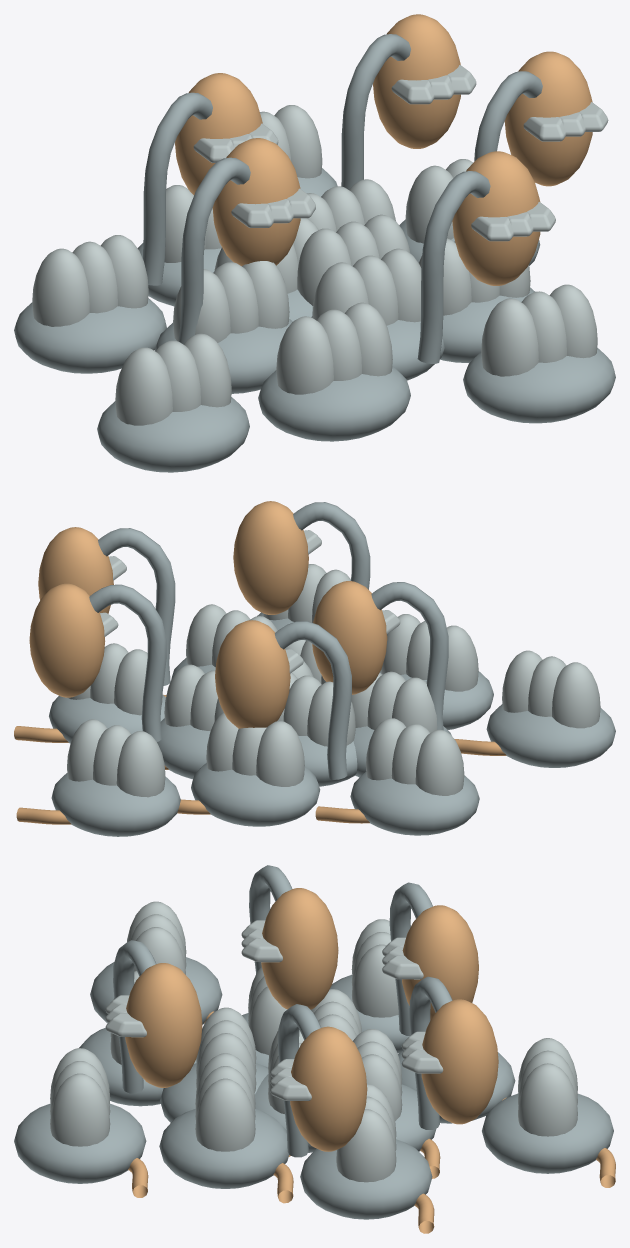
The model's file is bio_acid_mat_18_near.glb.
3 renders of one model, top to bottom at view 1: azimuth 30°, elevation 25°; view 2: azimuth 150°, elevation 25°; view 3: azimuth 270°, elevation 25°, orthographic. The views are drawn at different scales.
Visible parts, largest first — view 1: Reaction vesicle.027, Reaction vesicle.030, Reaction vesicle.021, Reaction vesicle.036, Microbial cushion.012, Microbial cushion.007, Microbial cushion.010, Microbial cushion.009, Pendant spore capsule.003, Pendant spore capsule.002, Pendant spore capsule, Pendant spore capsule.004 (+25 smaller); view 2: Pendant spore capsule.003, Pendant spore capsule.002, Pendant spore capsule.001, Reaction vesicle.033, Reaction vesicle.036, Reaction vesicle.027, Microbial cushion.006, Microbial cushion.009, Microbial cushion.012, Microbial cushion.011, Pendant spore capsule.004, Reaction vesicle.018 (+23 smaller); view 3: Pendant spore capsule.003, Pendant spore capsule, Pendant spore capsule.002, Pendant spore capsule.004, Microbial cushion.010, Microbial cushion.011, Microbial cushion.005, Microbial cushion.008, Pendant spore capsule.001, Reaction vesicle.015, Reaction vesicle.030, Reaction vesicle.033 (+29 smaller).
Part boxes in pixels (x1=…): Reaction vesicle.027: x1=32, y1=235, x2=148, y2=326; Reaction vesicle.030: x1=481, y1=284, x2=597, y2=376; Reaction vesicle.021: x1=276, y1=302, x2=392, y2=394; Reaction vesicle.036: x1=115, y1=333, x2=231, y2=425; Microbial cushion.012: x1=97, y1=397, x2=249, y2=472; Microbial cushion.007: x1=258, y1=366, x2=410, y2=441; Microbial cushion.010: x1=463, y1=348, x2=615, y2=423; Microbial cushion.009: x1=14, y1=298, x2=166, y2=373; Pendant spore capsule.003: x1=373, y1=14, x2=460, y2=148; Pendant spore capsule.002: x1=452, y1=151, x2=540, y2=285; Pendant spore capsule: x1=504, y1=51, x2=592, y2=186; Pendant spore capsule.004: x1=212, y1=138, x2=300, y2=266; Pendant spore capsule.003: x1=29, y1=583, x2=105, y2=697; Pendant spore capsule.002: x1=233, y1=501, x2=308, y2=614; Pendant spore capsule.001: x1=215, y1=620, x2=290, y2=728; Reaction vesicle.033: x1=67, y1=719, x2=165, y2=797; Reaction vesicle.036: x1=502, y1=650, x2=600, y2=728; Reaction vesicle.027: x1=365, y1=718, x2=464, y2=795; Microbial cushion.006: x1=191, y1=763, x2=320, y2=826; Microbial cushion.009: x1=350, y1=772, x2=479, y2=835; Microbial cushion.012: x1=486, y1=704, x2=615, y2=767; Microbial cushion.011: x1=51, y1=773, x2=180, y2=836; Pendant spore capsule.004: x1=312, y1=581, x2=387, y2=694; Reaction vesicle.018: x1=206, y1=712, x2=304, y2=786; Pendant spore capsule.003: x1=421, y1=999, x2=498, y2=1124; Pendant spore capsule: x1=290, y1=1026, x2=367, y2=1151; Pendant spore capsule.002: x1=125, y1=963, x2=202, y2=1087; Pendant spore capsule.004: x1=261, y1=888, x2=338, y2=1009; Microbial cushion.010: x1=14, y1=1103, x2=146, y2=1183; Microbial cushion.011: x1=482, y1=1093, x2=613, y2=1173; Microbial cushion.005: x1=159, y1=1108, x2=289, y2=1188; Microbial cushion.008: x1=300, y1=1139, x2=432, y2=1219; Pendant spore capsule.001: x1=402, y1=905, x2=478, y2=1020; Reaction vesicle.015: x1=195, y1=1053, x2=255, y2=1151; Reaction vesicle.030: x1=50, y1=1048, x2=110, y2=1146; Reaction vesicle.033: x1=518, y1=1038, x2=577, y2=1136.
Bounding box in the file's own units: 2.04 × 0.7645 × 2.
